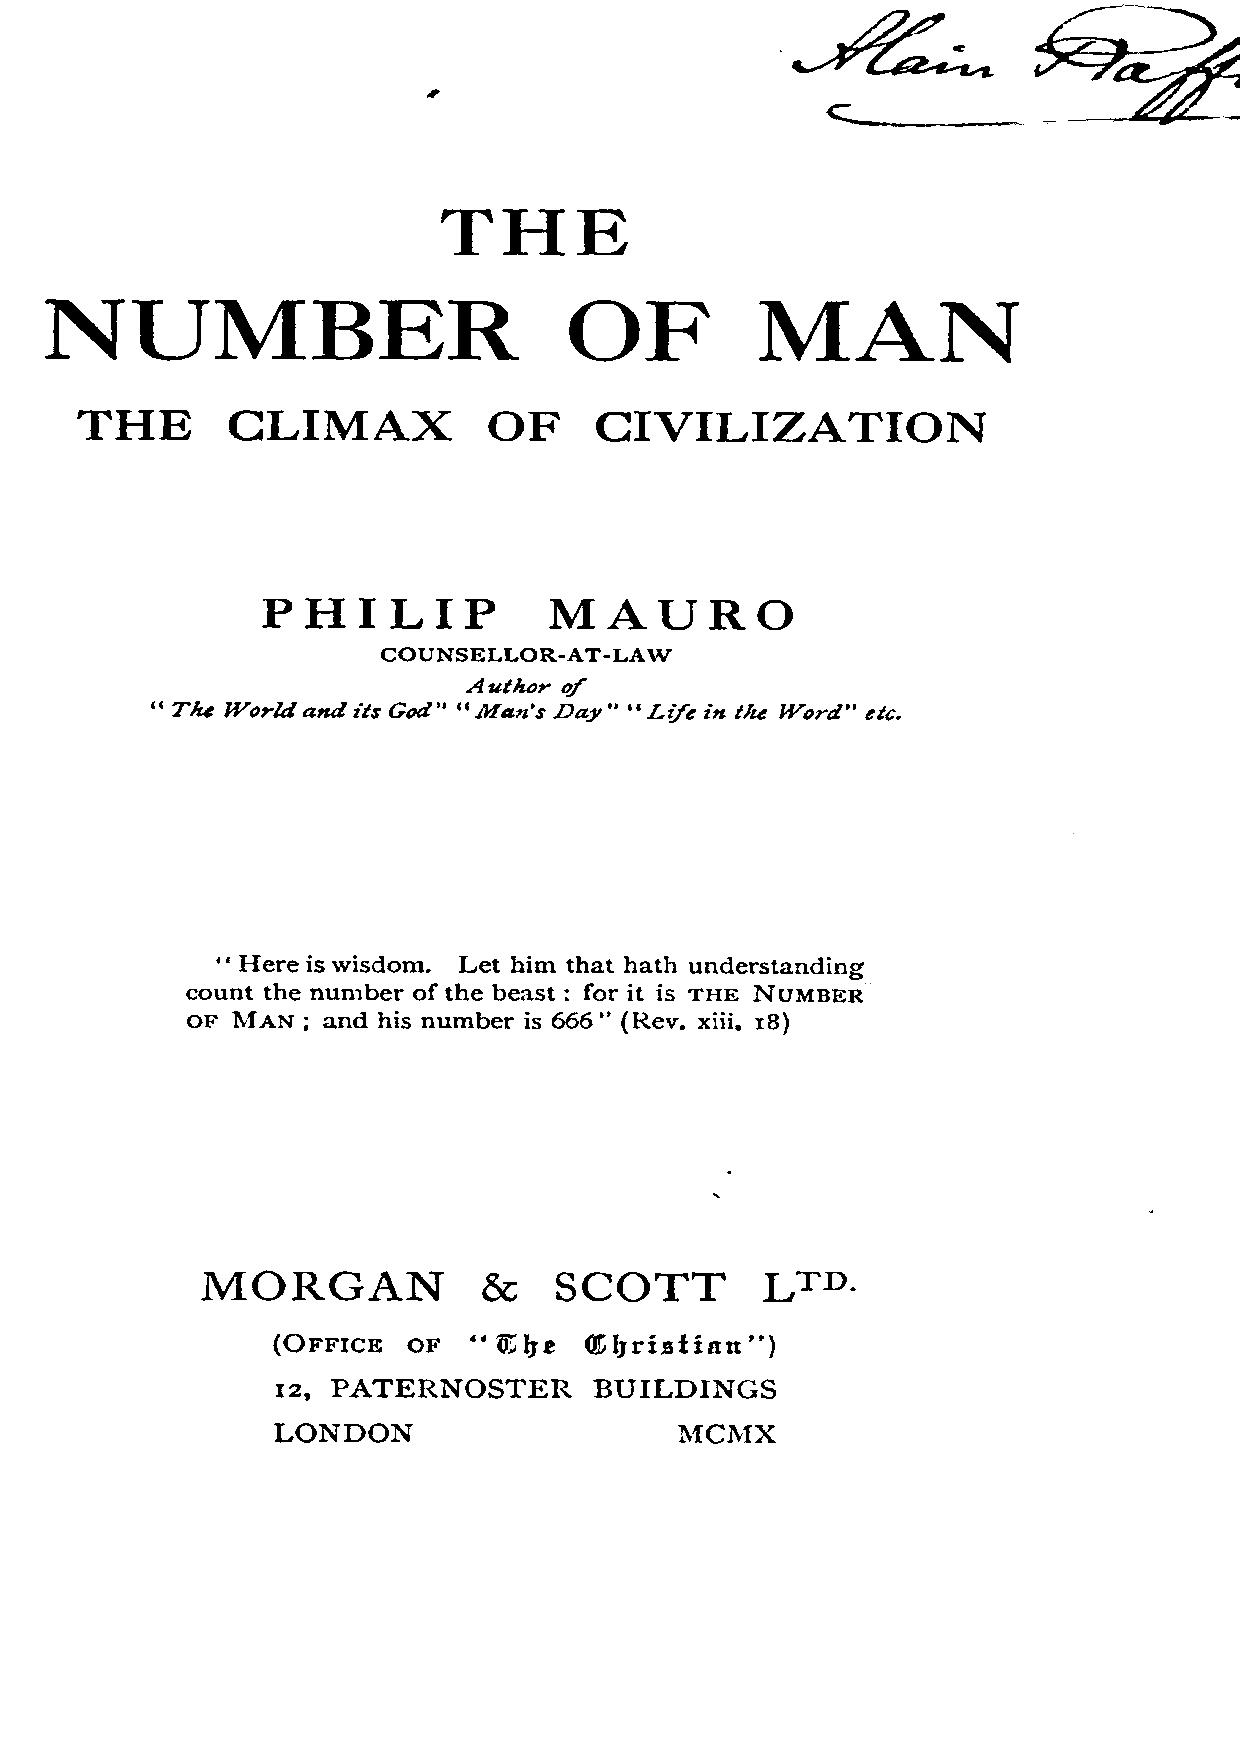author: (258, 595, 796, 632)
title: (42, 207, 1020, 446)
